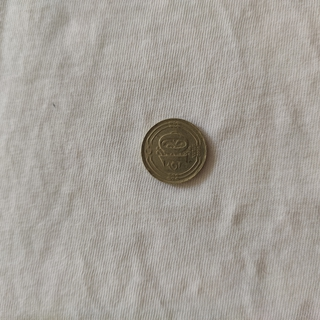10KURUS: (139, 116, 209, 186)
